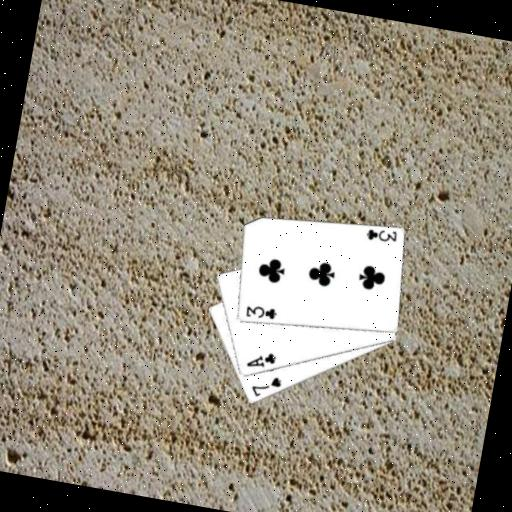3C: (241, 300, 278, 323), (362, 222, 399, 245)
7S: (247, 369, 284, 402)
AC: (242, 345, 277, 372)
